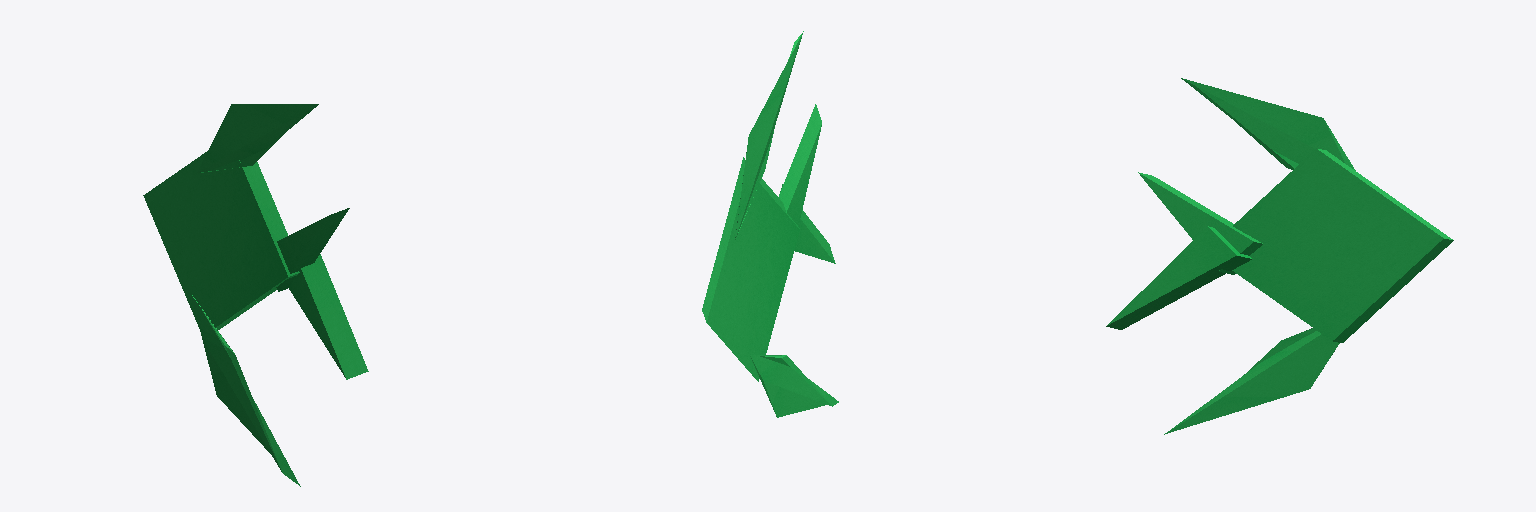
3 views of the same model, side by side, from view 1: azimuth 30°, elevation 25°; view 2: azimuth 150°, elevation 25°; view 3: azimuth 270°, elevation 25° (orthographic).
Visible parts, largest first — view 1: GreenFishy; view 2: GreenFishy; view 3: GreenFishy.
Boxes of the visible parts, box(x1,y1,x2,y2) form: GreenFishy: box(143, 104, 368, 486); GreenFishy: box(702, 31, 838, 417); GreenFishy: box(1106, 78, 1453, 434).
Size of the model in its own units: 0.2646 by 1.82 by 1.55.
Materials: 1 (1 with a texture image).